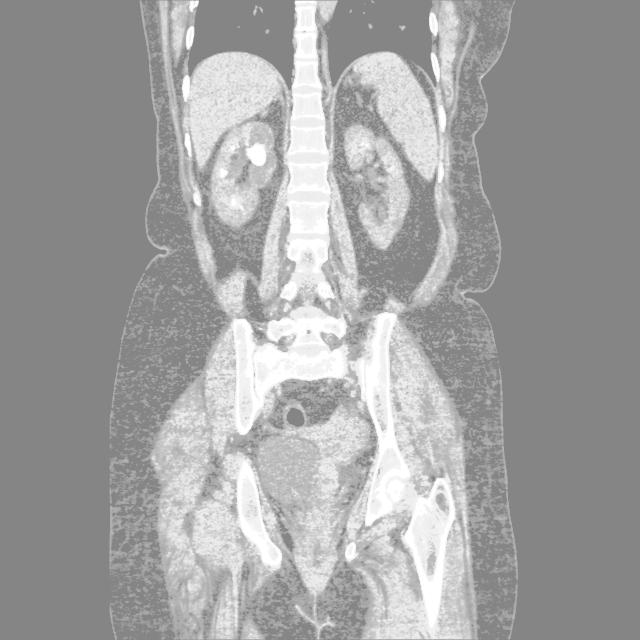STONE: (150, 105, 483, 265)
